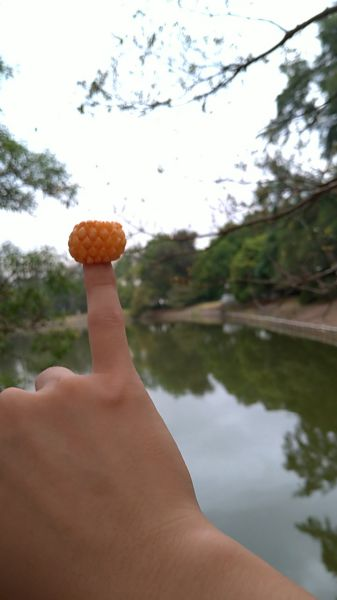eggs: (68, 220, 126, 263)
